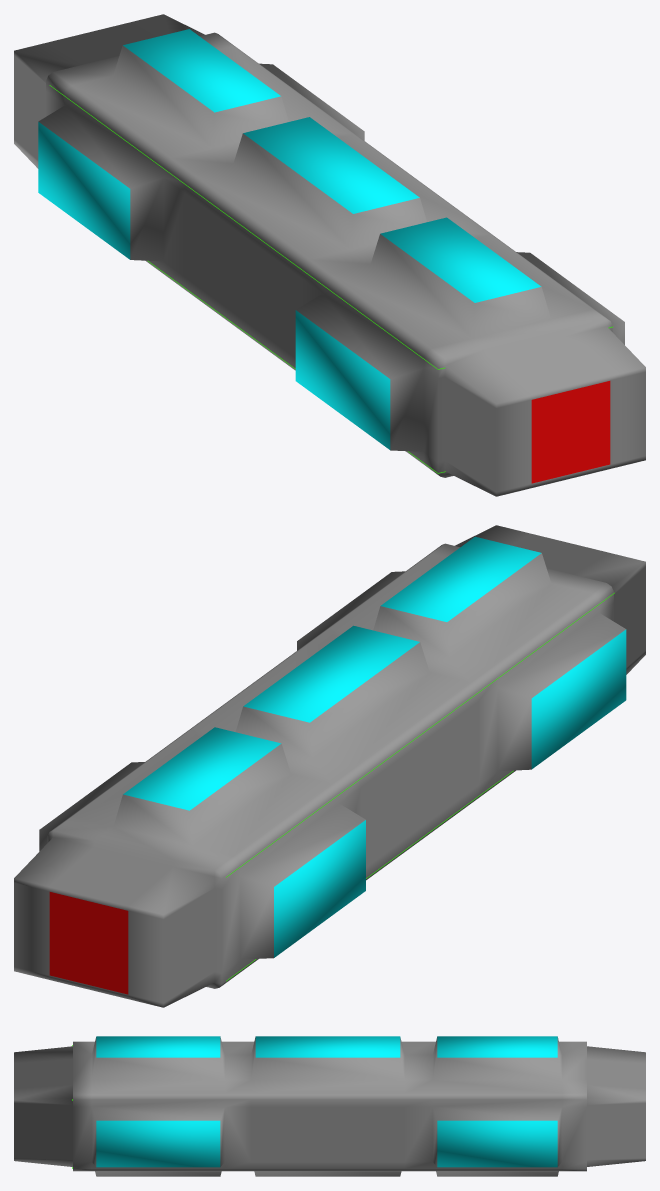
Rendered from Modular_CargoHold_01_Interior.FBX.
The picture shows the model from 3 angles, top to bottom: view 1: azimuth 30°, elevation 25°; view 2: azimuth 150°, elevation 25°; view 3: azimuth 270°, elevation 25°; orthographic projection. The views are drawn at different scales.
Visible parts, largest first — view 1: Box003; view 2: Box003; view 3: Box003.
Boxes of the visible parts, x1=… form: Box003: x1=14, y1=14, x2=645, y2=496; Box003: x1=14, y1=525, x2=645, y2=1007; Box003: x1=14, y1=1036, x2=645, y2=1176.
Size of the model in its own units: 39 by 28.89 by 139.
